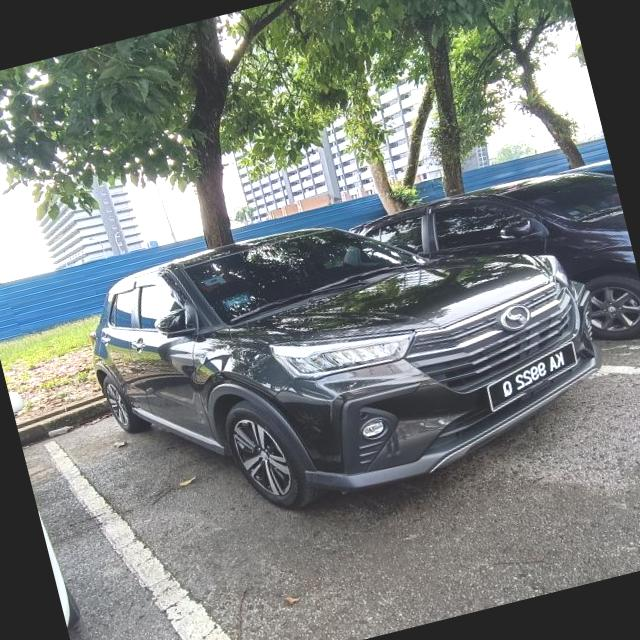PeroduaAtiva: (70, 159, 626, 550)
